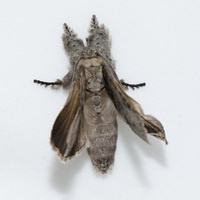insect: (34, 15, 167, 172)
